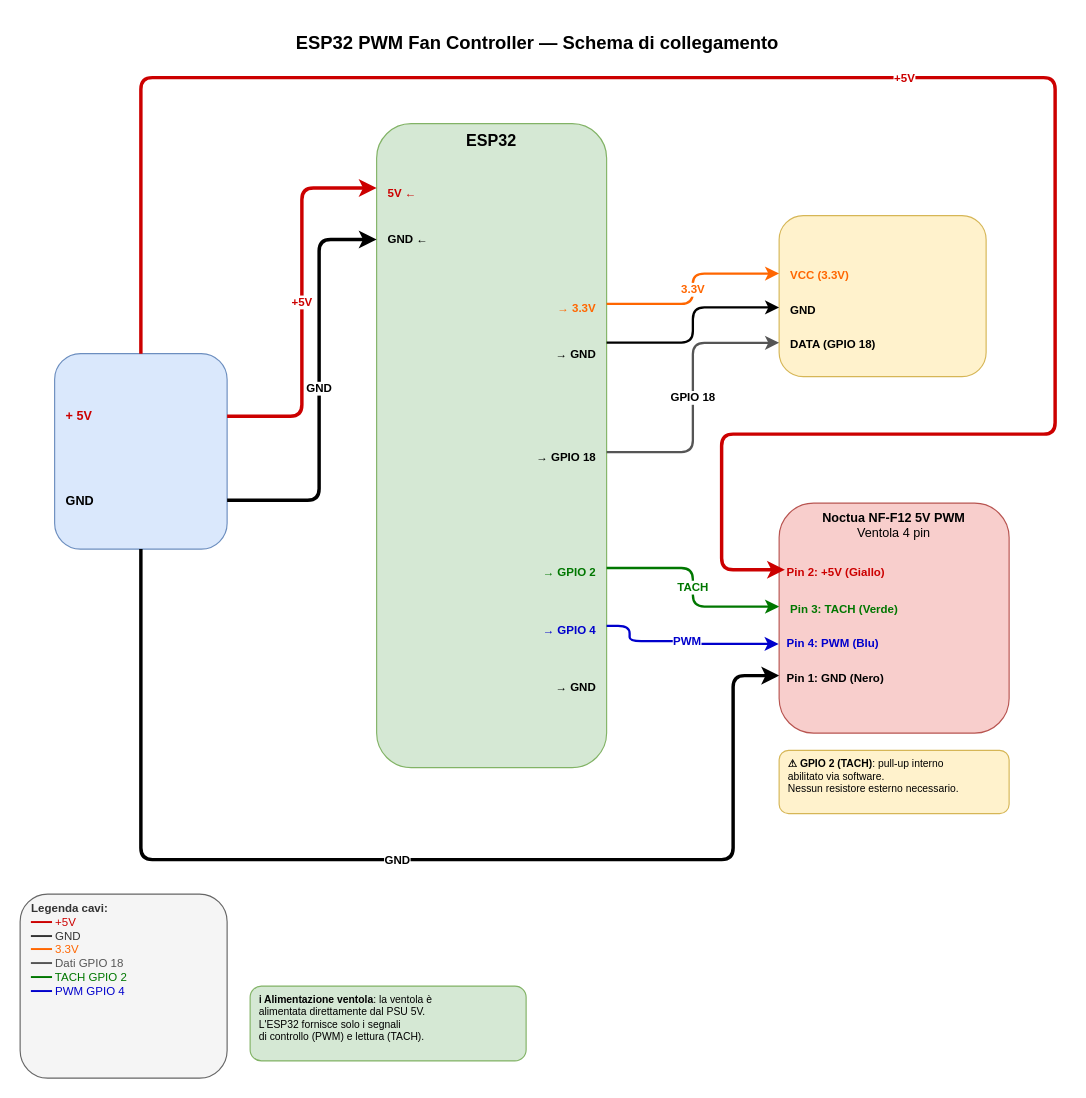
This 1086x1098 diagram has some shape labels left out. The box of each missing label's shape, as (x1, y1, x2, y2) in pixels:
Alimentatore 5V: (53, 352, 227, 549)
DHT11 Sensore Temp/Umidità: (778, 214, 986, 377)
